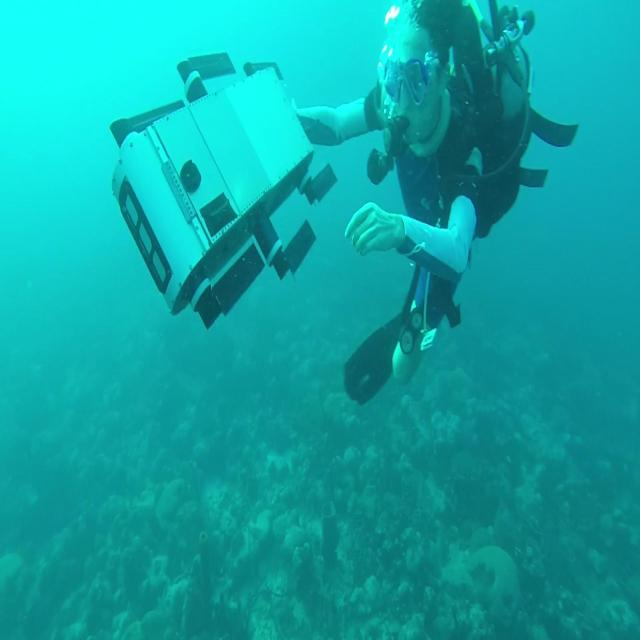human: (293, 0, 578, 405)
